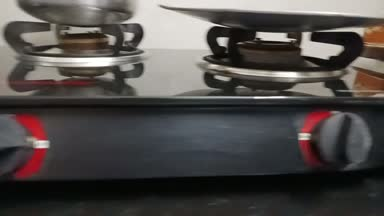noflame_gason: (208, 27, 382, 174)
